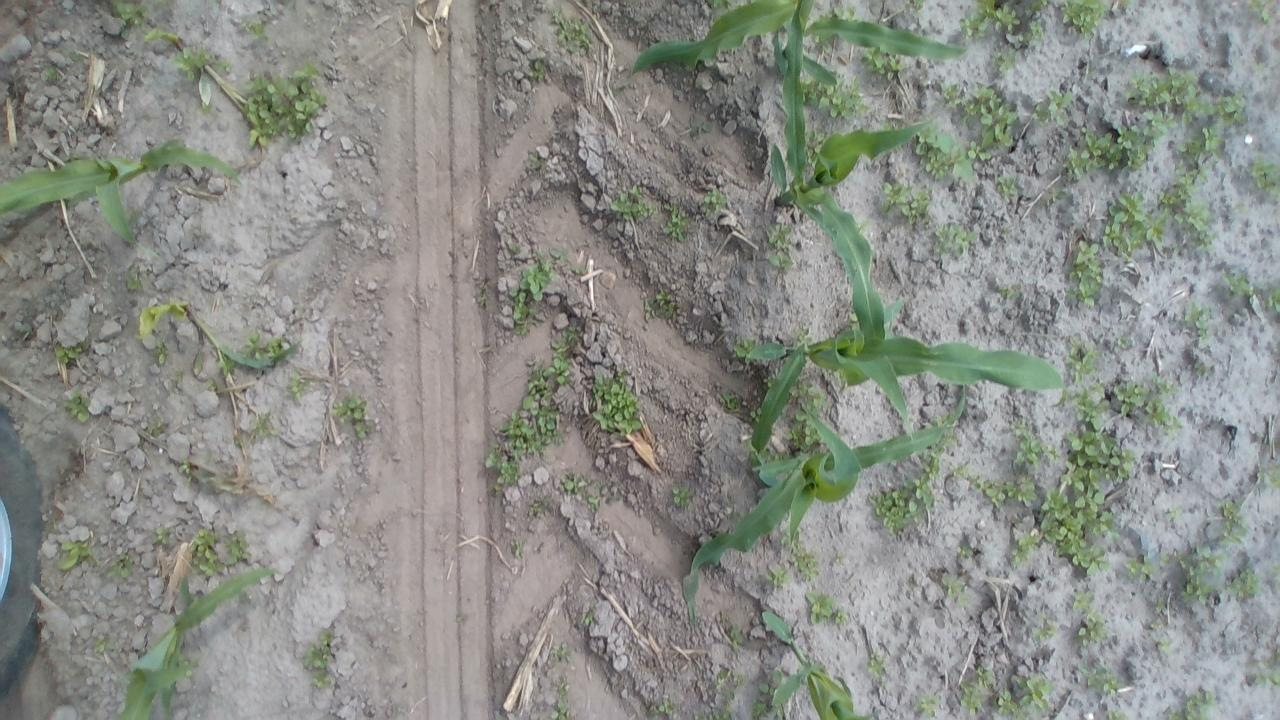Maize: (681, 388, 966, 625), (772, 26, 938, 344), (744, 339, 1066, 454), (618, 1, 971, 84), (117, 568, 286, 720), (1, 146, 249, 248), (132, 294, 300, 390), (757, 610, 871, 720)
Weeds: (1064, 72, 1250, 174), (1006, 417, 1123, 572), (486, 334, 578, 487), (1164, 128, 1230, 250), (246, 61, 327, 148), (871, 455, 940, 532), (1106, 368, 1176, 431), (1102, 192, 1166, 260), (954, 466, 1036, 507), (966, 86, 1018, 150), (590, 376, 644, 436), (803, 80, 870, 122), (1176, 546, 1226, 598), (883, 177, 933, 225), (1068, 239, 1103, 307), (195, 528, 249, 572), (966, 0, 1022, 39), (794, 382, 824, 453), (936, 129, 974, 184), (1062, 0, 1108, 40), (304, 628, 334, 688), (333, 392, 368, 440), (916, 126, 948, 176), (1014, 419, 1046, 468), (608, 186, 650, 221), (933, 220, 976, 254), (1168, 687, 1212, 720), (551, 12, 589, 50), (1076, 387, 1108, 432), (754, 670, 780, 720), (1034, 91, 1070, 127), (771, 222, 794, 274), (790, 546, 822, 583), (1086, 664, 1120, 698), (1226, 566, 1260, 600), (1065, 340, 1099, 374), (646, 289, 680, 323), (521, 262, 553, 298), (1192, 304, 1218, 348), (58, 539, 91, 573), (1221, 269, 1257, 300), (868, 46, 906, 75), (1019, 675, 1050, 709), (1251, 158, 1279, 195), (510, 289, 536, 328), (1074, 613, 1104, 646), (664, 204, 688, 243), (806, 592, 836, 622), (958, 682, 985, 714), (940, 570, 966, 602), (1255, 462, 1280, 495), (176, 48, 206, 74), (526, 56, 550, 88), (1124, 557, 1154, 582), (1248, 0, 1280, 22), (112, 2, 141, 26), (995, 174, 1018, 204), (765, 562, 791, 588), (1032, 621, 1058, 647), (66, 394, 90, 422), (558, 472, 586, 496), (704, 186, 726, 216), (913, 690, 938, 716), (942, 79, 964, 108), (992, 48, 1014, 77), (1222, 501, 1245, 528), (647, 695, 674, 716), (996, 692, 1019, 714), (552, 642, 574, 664), (1070, 590, 1092, 612), (974, 666, 996, 688), (671, 485, 690, 509), (866, 649, 884, 674), (1264, 286, 1280, 314), (56, 346, 80, 364), (236, 18, 266, 32), (967, 140, 986, 162), (554, 673, 570, 697), (529, 499, 548, 518), (116, 556, 132, 578), (996, 286, 1017, 302), (746, 402, 760, 424), (154, 527, 171, 545), (549, 707, 572, 720), (1110, 0, 1130, 14), (1106, 709, 1130, 720), (586, 494, 602, 510), (580, 608, 594, 626), (96, 632, 108, 652), (722, 396, 738, 410), (1117, 336, 1131, 350), (1154, 602, 1166, 616), (1168, 507, 1180, 520), (956, 544, 969, 556)
